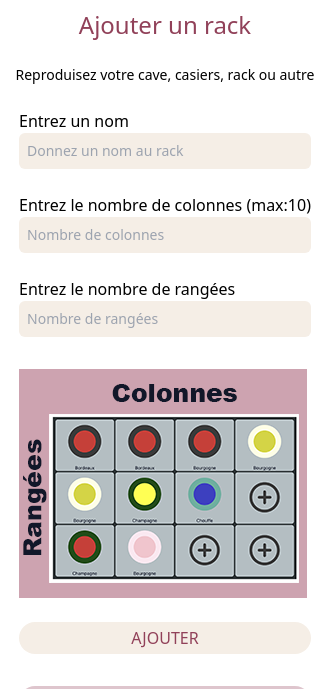
AddRackPage › nombre de colonnes superieur a 0
Type "Nouveau Rack test" into the field labelled "Entrez un nom" at (165, 151), box [19,133,311,169]
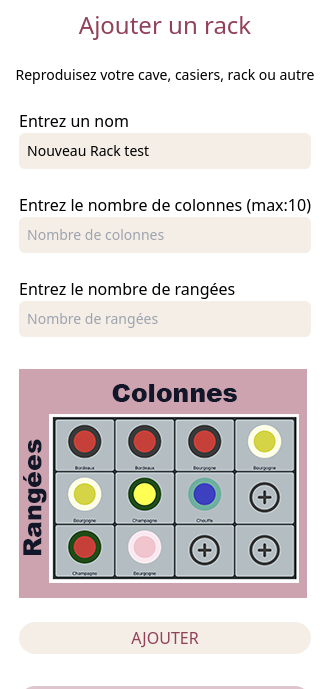
Type "0" into the number field with placeholder "Nombre de colonnes" at (165, 235), box [19,217,311,253]
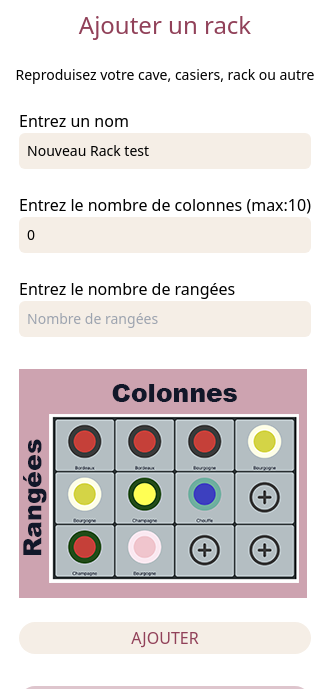
Type "3" into the number field with placeholder "Nombre de rangées" at (165, 319), box [19,301,311,337]
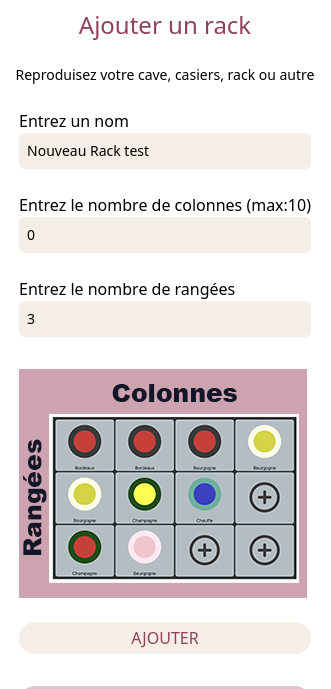
Click the button "AJOUTER" at (165, 638), box [19,622,311,654]
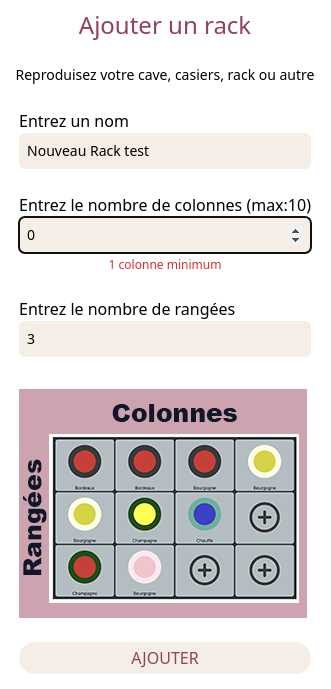
expect the text "1 colonne minimum" is shown: met, box [109,256,221,273]
